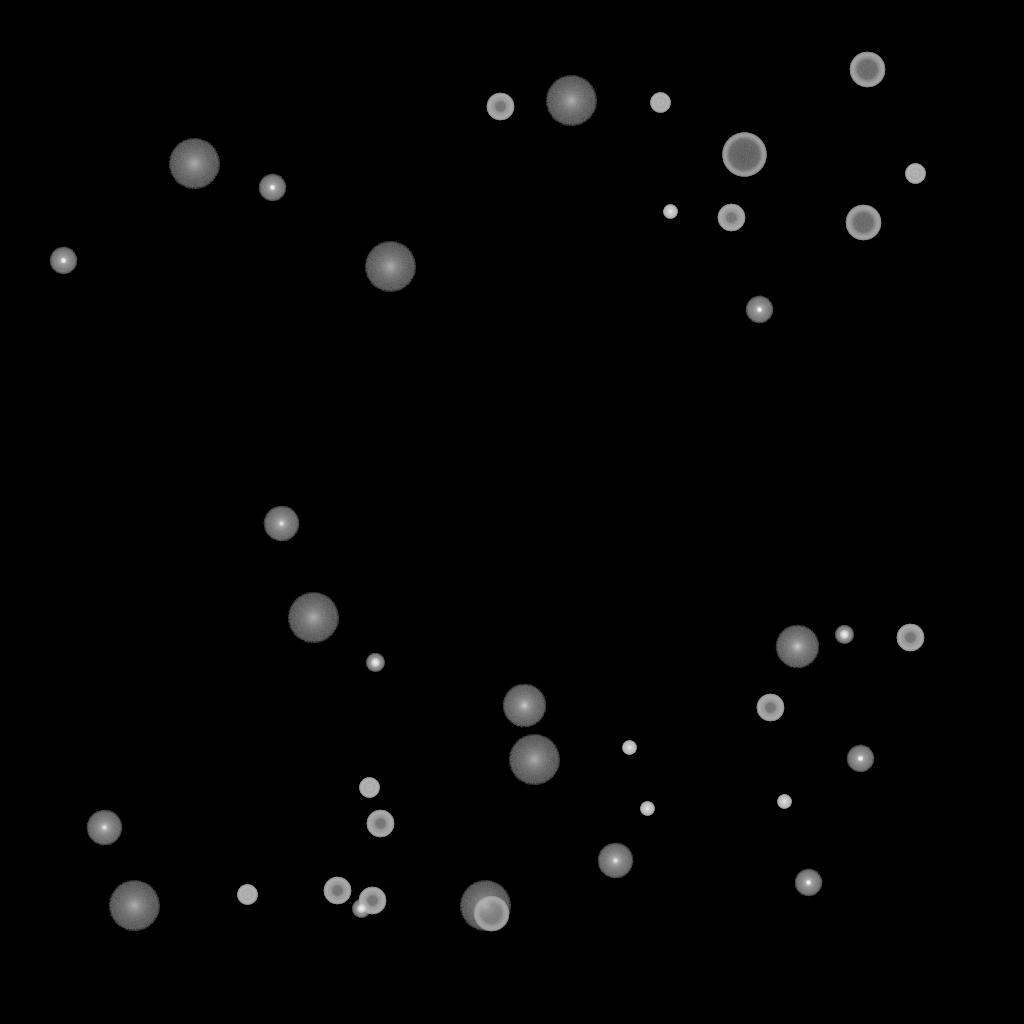depth:-10: (846, 745, 874, 773), (49, 247, 77, 275), (794, 869, 822, 897), (258, 174, 286, 202), (745, 296, 773, 324)
depth:-20: (352, 900, 370, 918), (366, 654, 384, 672), (835, 626, 853, 644)
depth:-30: (663, 205, 677, 219), (622, 741, 636, 755), (777, 795, 791, 809), (640, 802, 654, 816)
depth:-40: (905, 164, 925, 184), (237, 885, 257, 905), (359, 778, 379, 798), (650, 93, 670, 113)
depth:-50: (323, 877, 351, 905), (756, 694, 784, 722), (366, 810, 394, 838), (896, 624, 924, 652), (717, 204, 745, 232), (358, 887, 386, 915), (486, 93, 514, 121)
depth:-60: (849, 52, 885, 88), (845, 205, 881, 241), (473, 896, 509, 932)
depth:-70: (722, 133, 766, 177)
depth:0: (86, 810, 122, 846), (597, 843, 633, 879), (263, 506, 299, 542)
depth:10: (502, 684, 546, 728), (775, 625, 819, 669)
depth:20: (108, 881, 160, 931), (168, 139, 220, 189), (508, 735, 560, 785), (287, 593, 339, 643), (545, 76, 597, 126), (364, 242, 416, 292), (459, 881, 511, 931)
